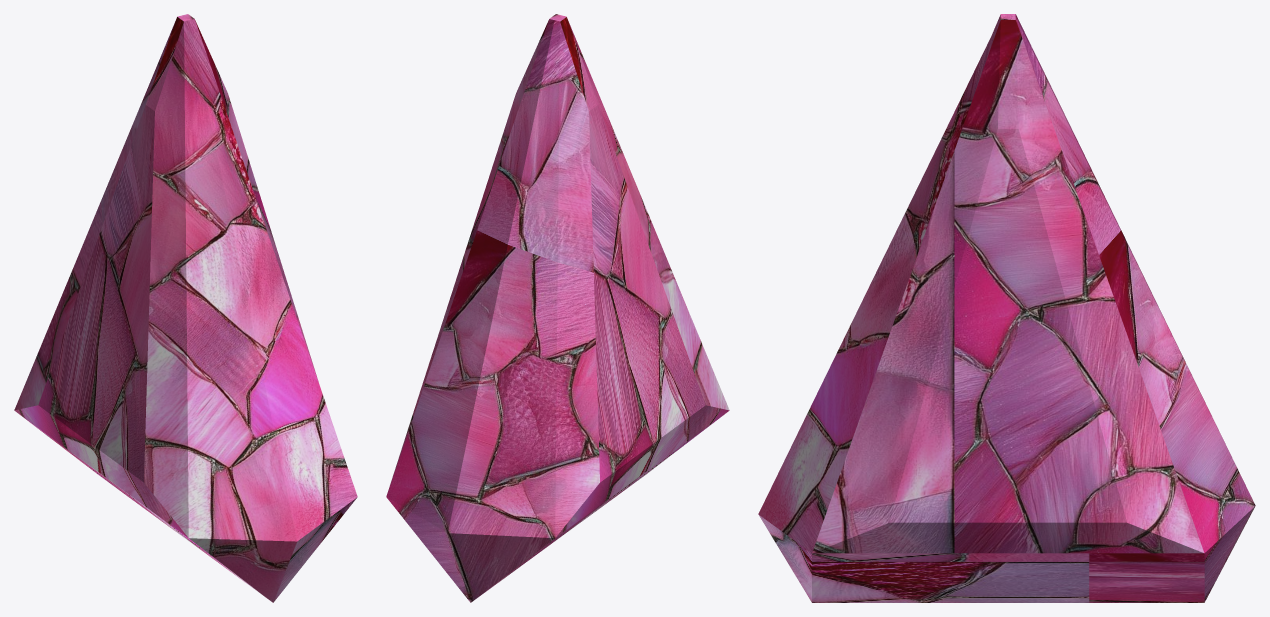
File: gemstone4PinkCompressed.glb
3 views of the same model, side by side, from view 1: azimuth 30°, elevation 25°; view 2: azimuth 150°, elevation 25°; view 3: azimuth 270°, elevation 25° (orthographic). The views are drawn at different scales.
Parts seen in each view (by area): view 1: gemstone3; view 2: gemstone3; view 3: gemstone3.
Boxes of the visible parts, x1,y1,x2,y2 form: gemstone3: (14,14,357,602); gemstone3: (386,14,729,602); gemstone3: (758,14,1255,602).
Size of the model in its own units: 0.5 by 1.3 by 1.
1 material, 1 textured.
